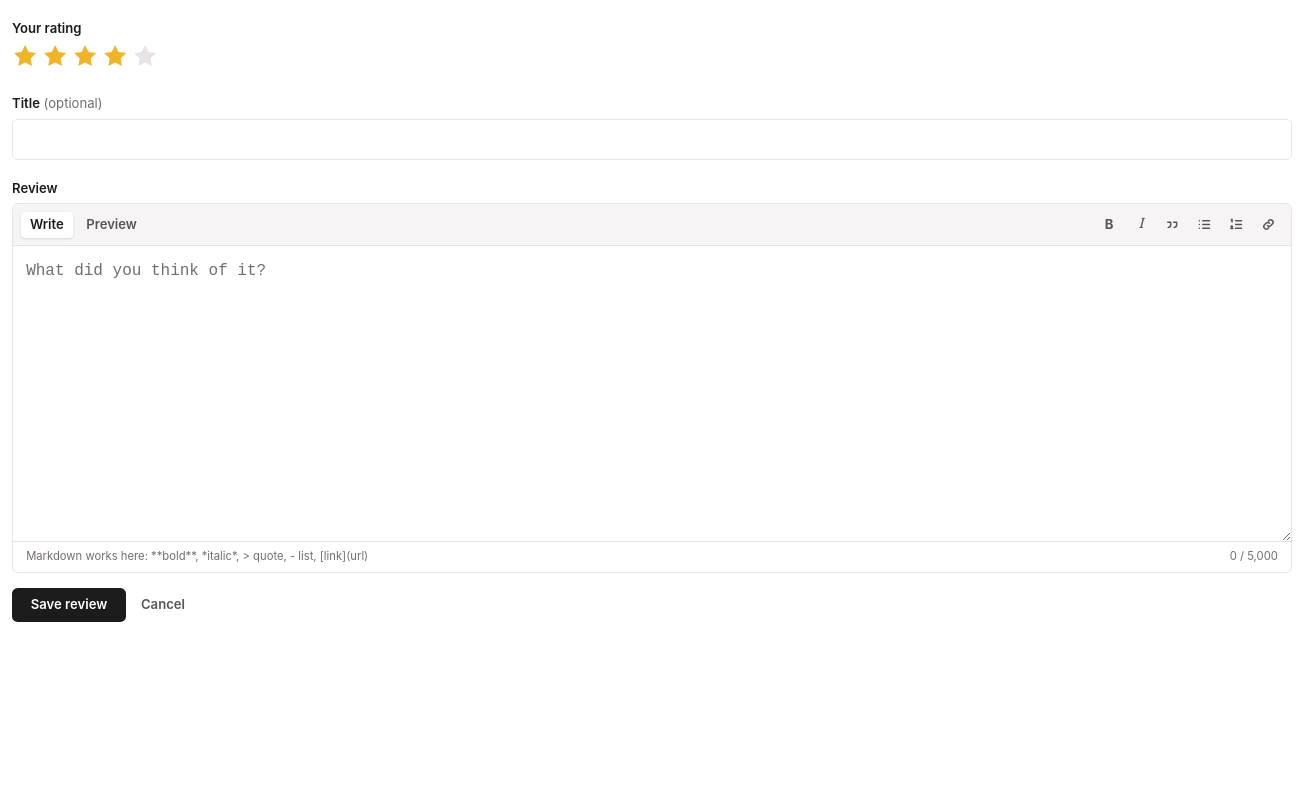
Test: ReviewEditor › should count the characters of the body
This screenshot has width=1304, height=800.
In the text box labelled "Review": (652, 394) [13,246,1291,541], type "Spice."
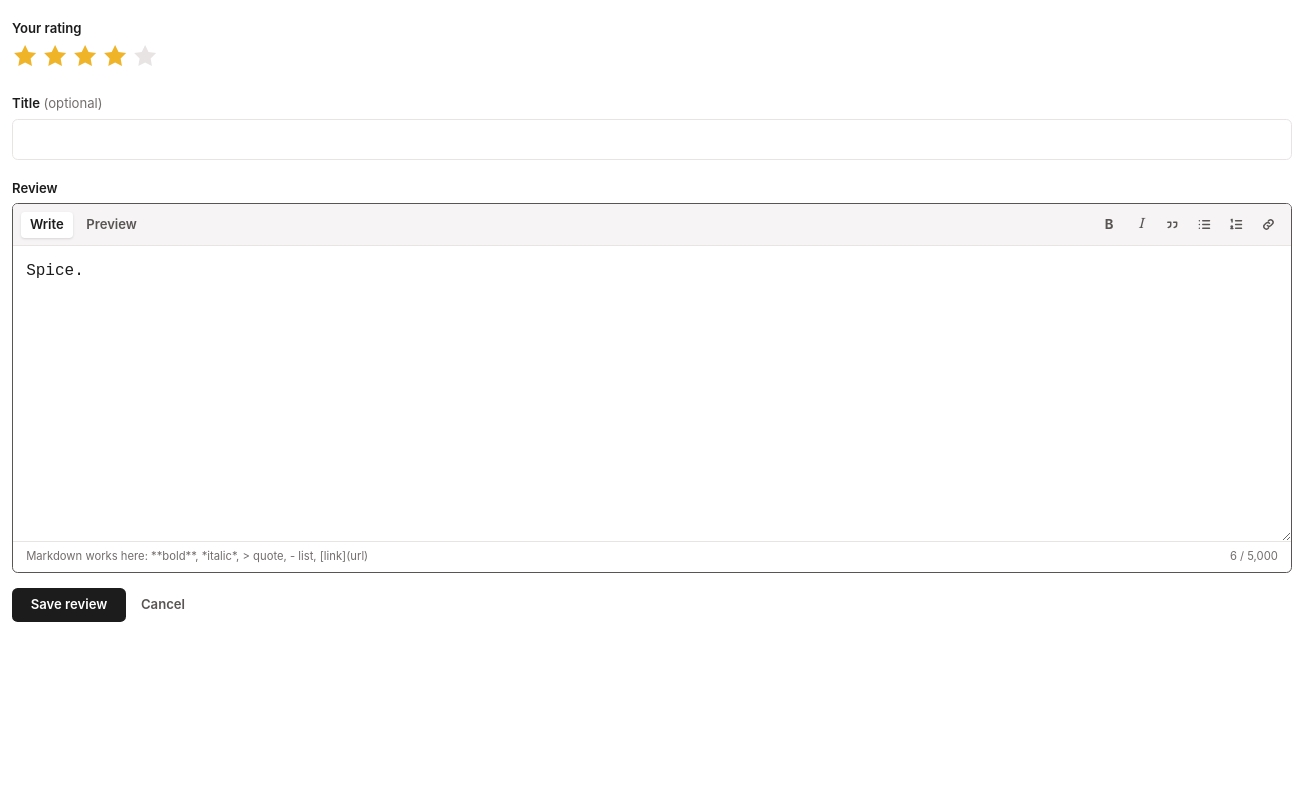
Check: the text "6 / 5,000" is shown, box [1230,549,1278,564]
